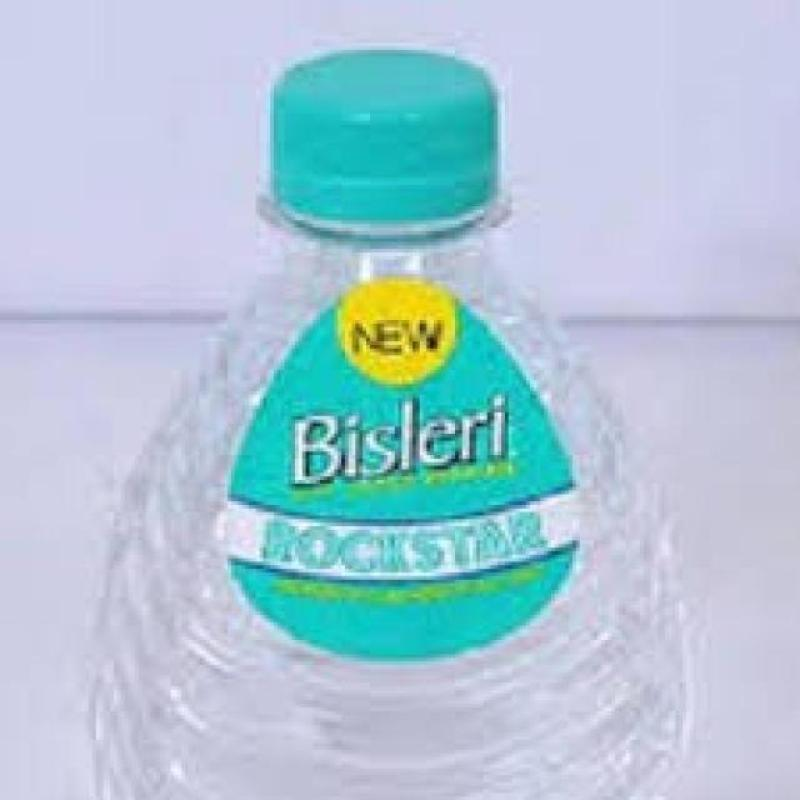botella: (94, 50, 692, 800)
